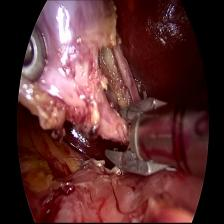Clipper: (100, 95, 181, 180)
Grasper: (21, 26, 49, 85)
